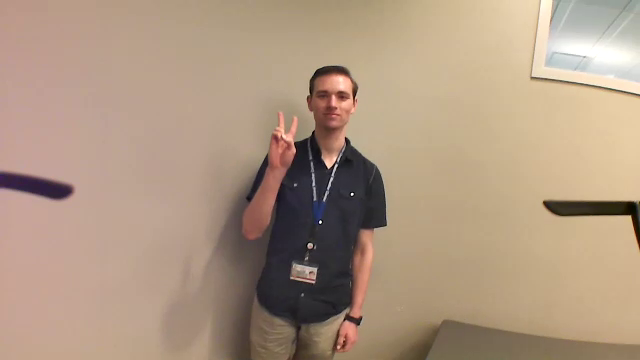peace: (266, 105, 310, 179)
